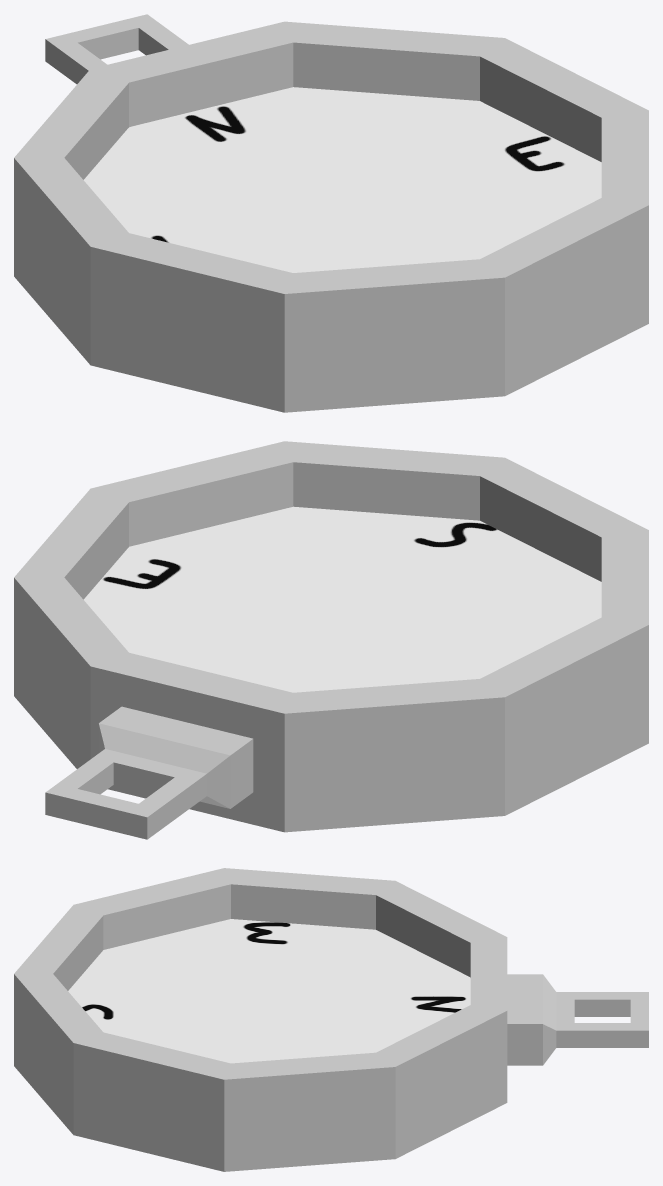
The model's file is Compass_Body.fbx.
The picture shows the model from 3 angles, top to bottom: view 1: azimuth 30°, elevation 25°; view 2: azimuth 150°, elevation 25°; view 3: azimuth 270°, elevation 25°; orthographic projection. The views are drawn at different scales.
Parts seen in each view (by area): view 1: Circle; view 2: Circle; view 3: Circle.
Part boxes in pixels (x1,y1,x2,y2): Circle: [14, 14, 648, 412]; Circle: [14, 441, 648, 839]; Circle: [14, 868, 648, 1171].
Bounding box in the file's own units: 197 × 40 × 250.
